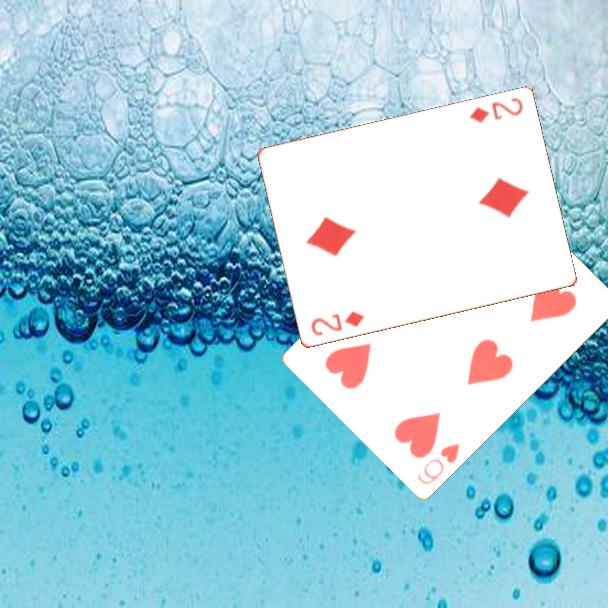d02: (466, 94, 526, 126), (307, 308, 367, 339)
h06: (414, 439, 462, 487)
